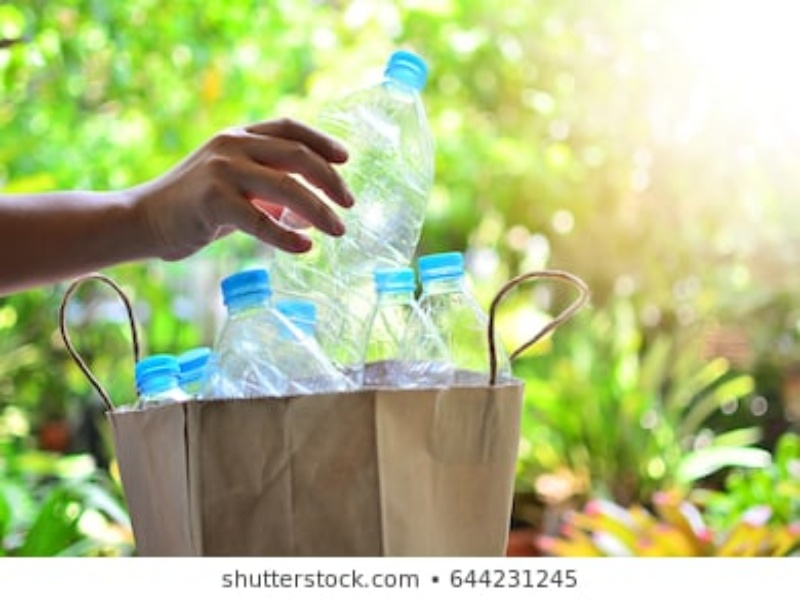bottle-cap: (210, 264, 279, 307), (377, 43, 443, 79), (416, 252, 475, 278), (128, 354, 182, 381), (172, 347, 218, 374), (368, 268, 418, 285)
plastic-bottle: (294, 50, 453, 355), (198, 265, 340, 400), (412, 237, 526, 393), (352, 263, 458, 381), (270, 284, 340, 400), (176, 339, 254, 411), (126, 348, 203, 409)
